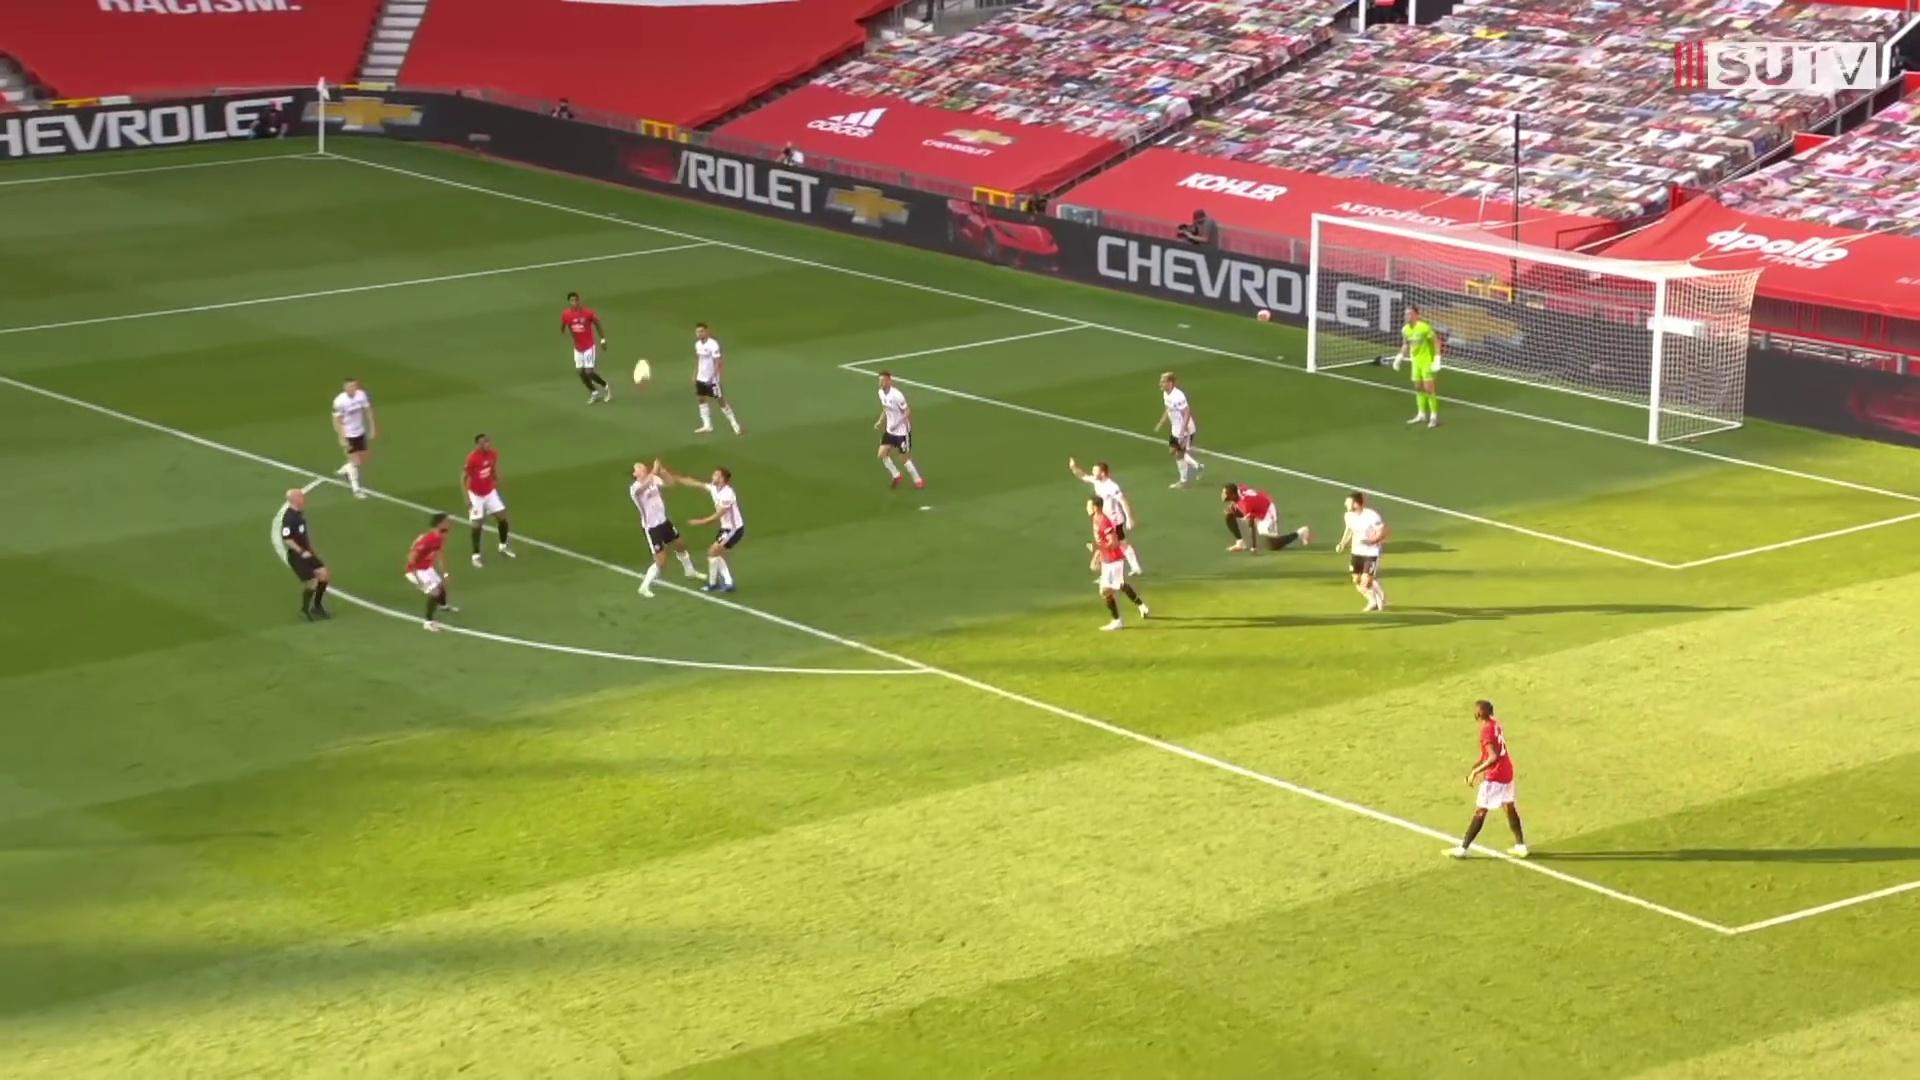ball: (633, 359, 654, 386), (1256, 308, 1273, 326)
goalkeeper: (1392, 305, 1453, 431)
player: (1443, 697, 1539, 866), (628, 454, 708, 601), (1068, 454, 1145, 586), (1083, 494, 1150, 634), (682, 467, 752, 600), (461, 427, 525, 568), (868, 367, 930, 493), (1221, 478, 1317, 558), (1335, 491, 1394, 619), (685, 319, 746, 439), (405, 512, 461, 639), (563, 288, 621, 410), (328, 369, 379, 501), (1154, 368, 1208, 491)
referee: (277, 487, 336, 625)
